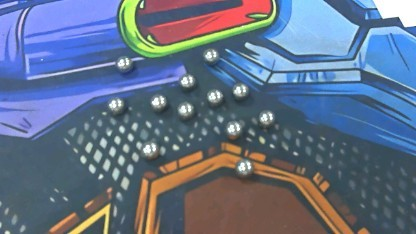ironball: (142, 90, 172, 116), (203, 84, 227, 107), (230, 156, 254, 177), (136, 141, 165, 158), (200, 43, 220, 66), (175, 98, 194, 122), (257, 105, 275, 130), (175, 70, 197, 89), (229, 82, 249, 102), (114, 51, 133, 72), (106, 98, 126, 116), (226, 118, 239, 141)
